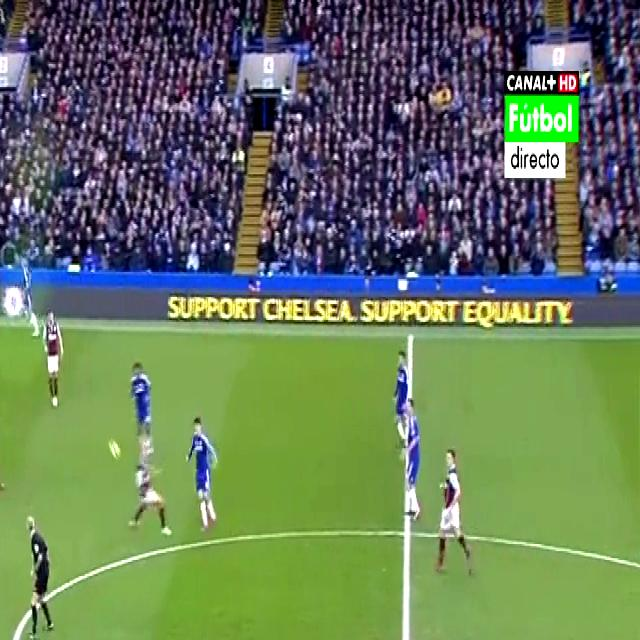ball: (108, 429, 121, 470)
referee: (17, 510, 65, 640)
soccer-player: (188, 411, 234, 561), (432, 440, 480, 580), (129, 427, 178, 545), (384, 332, 419, 452), (396, 391, 424, 529), (40, 300, 66, 409), (126, 344, 158, 431), (0, 386, 6, 516)
